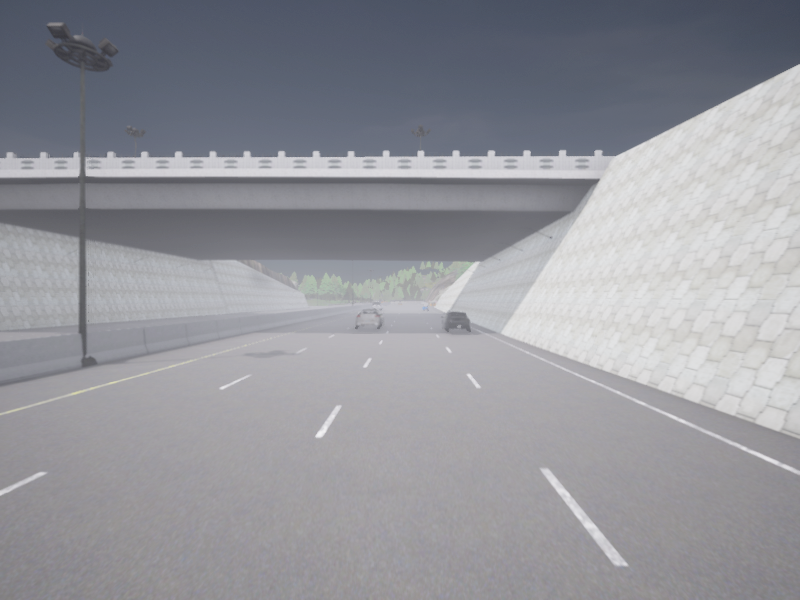vehicle: (441, 311, 470, 331), (356, 309, 383, 328), (372, 302, 382, 310), (422, 305, 427, 310), (398, 302, 402, 305)
